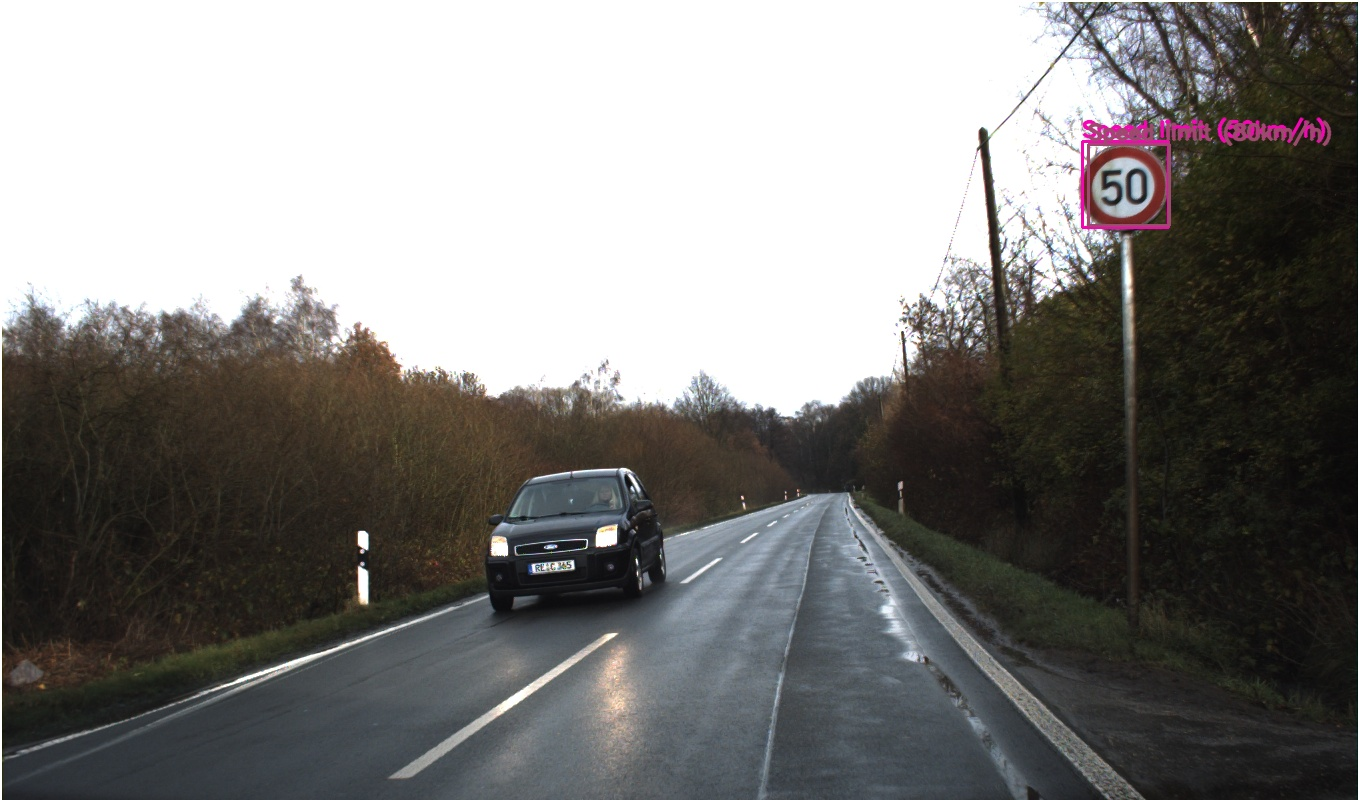Speed limit (20km/h): (720, 266, 784, 330)
